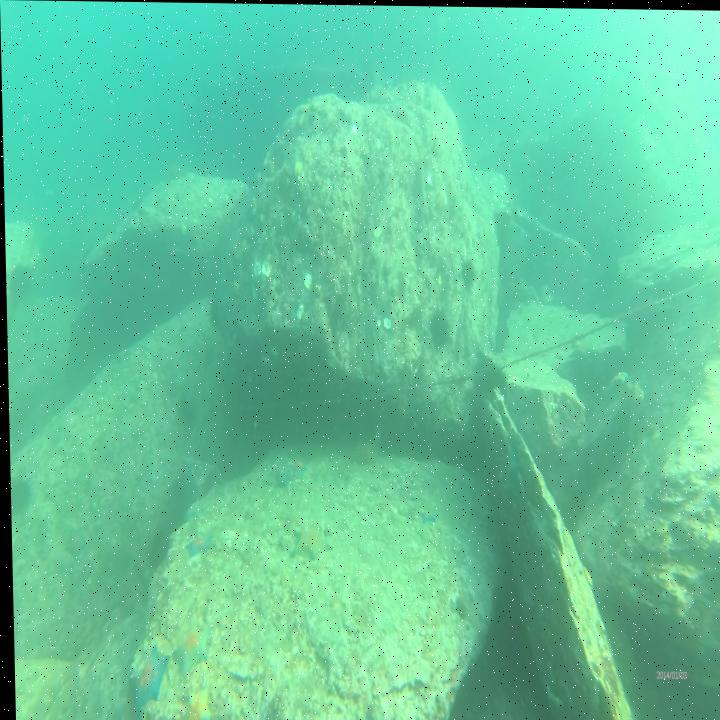echinus: (429, 302, 451, 352), (479, 359, 507, 394), (8, 473, 28, 511), (459, 250, 478, 289), (176, 390, 197, 423), (206, 295, 223, 333)
starfish: (126, 647, 168, 706), (167, 620, 208, 670), (290, 517, 331, 566), (179, 688, 211, 720), (186, 526, 211, 559), (417, 501, 438, 526)
